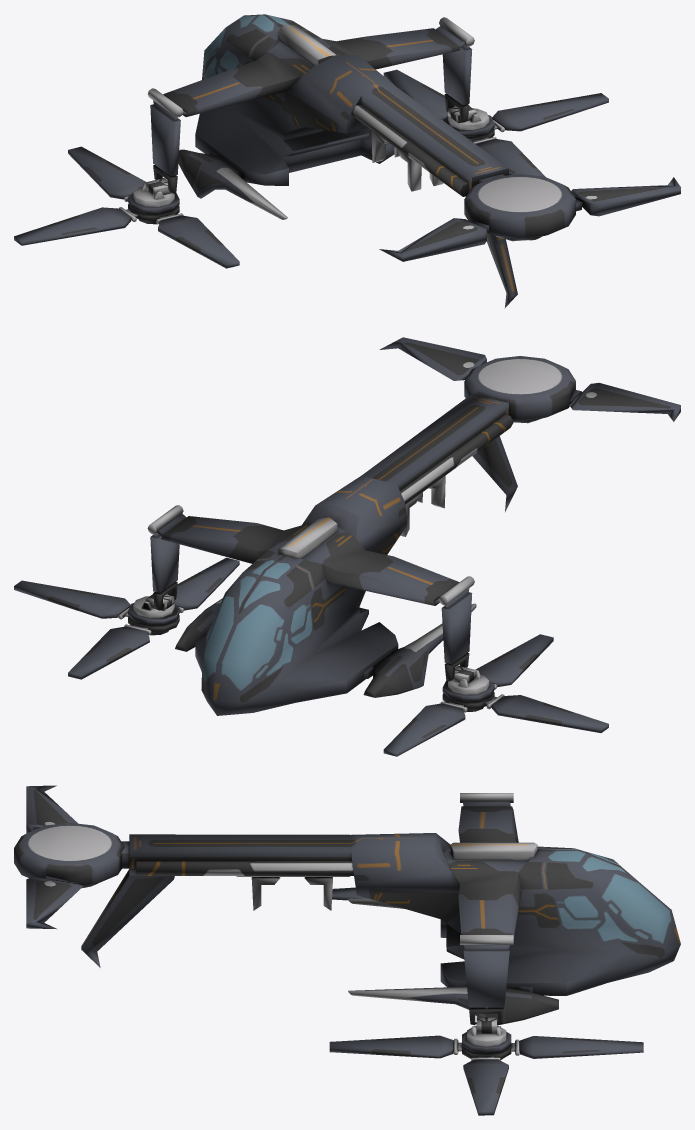
Rendered from nf_dropship.glb.
3 views of the same model, one above another, from view 1: azimuth 30°, elevation 25°; view 2: azimuth 150°, elevation 25°; view 3: azimuth 270°, elevation 25° (orthographic).
Visible parts, largest first — view 1: objVehicle_CargoDropShip; view 2: objVehicle_CargoDropShip; view 3: objVehicle_CargoDropShip.
Boxes of the visible parts, x1,y1,x2,y2 form: objVehicle_CargoDropShip: [14, 14, 680, 308]; objVehicle_CargoDropShip: [14, 337, 680, 756]; objVehicle_CargoDropShip: [14, 785, 680, 1115].
Bounding box in the file's own units: 2213 × 514 × 2182.
1 material, 1 textured.
